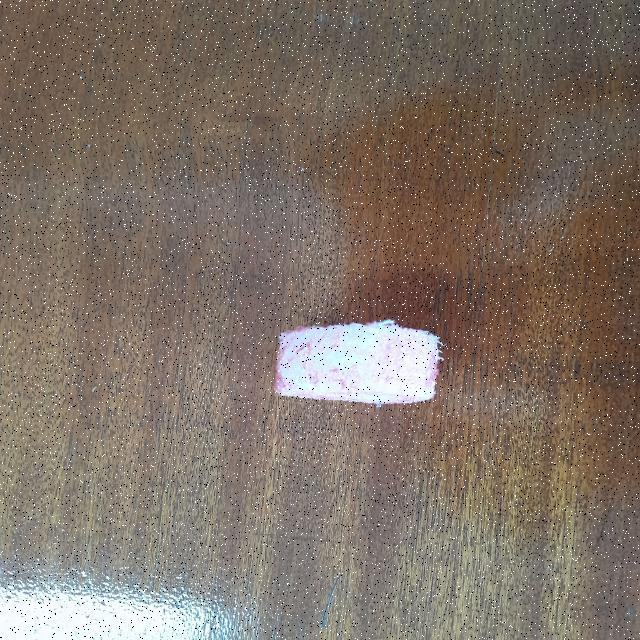wheel: (266, 322, 446, 406)
